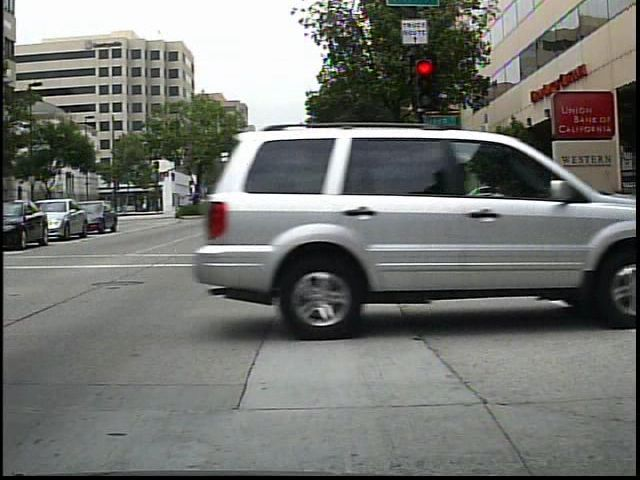car: (168, 122, 636, 356), (3, 197, 46, 249), (44, 197, 88, 243), (89, 198, 122, 233)
